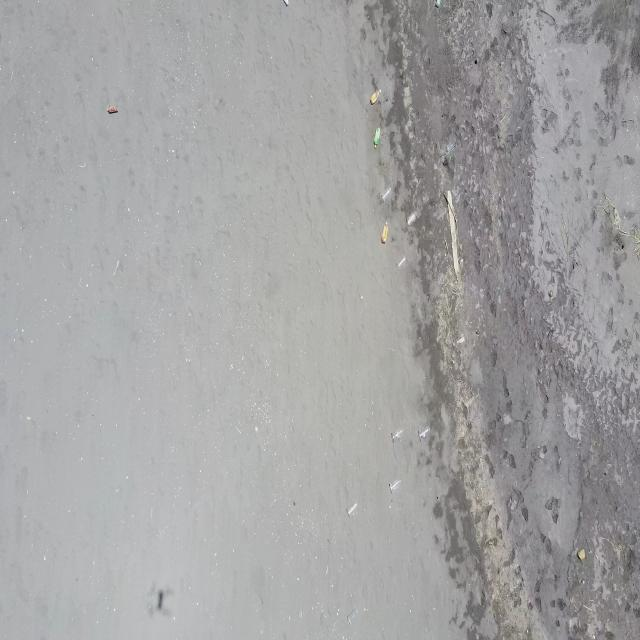plastic-bottle: (381, 221, 389, 243), (370, 90, 381, 104), (374, 127, 381, 148)
takeaway-cup: (418, 427, 431, 441), (380, 186, 392, 201), (391, 428, 403, 442), (389, 479, 401, 493), (407, 211, 418, 226), (347, 502, 357, 517), (396, 257, 406, 270)
